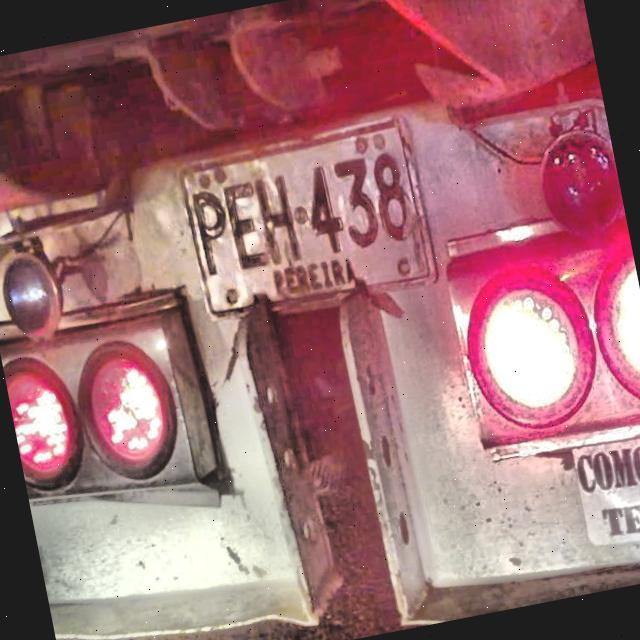plate: (182, 120, 433, 314)
